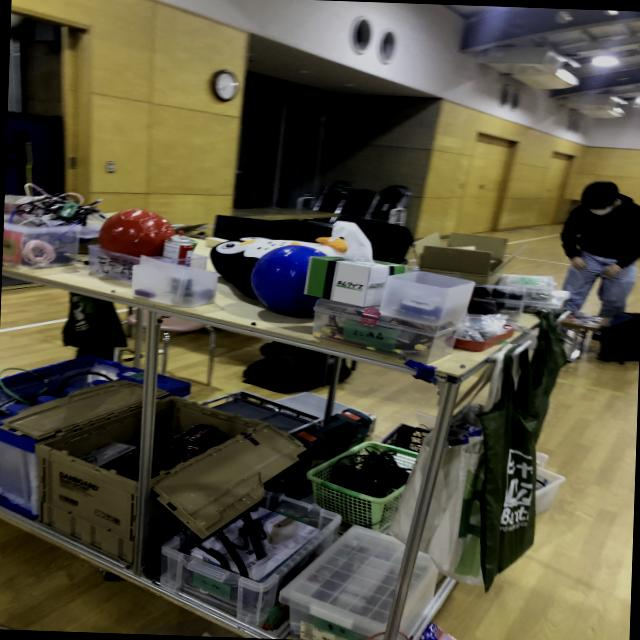blue_ball: (242, 244, 338, 318)
red_ball: (96, 208, 186, 268)
